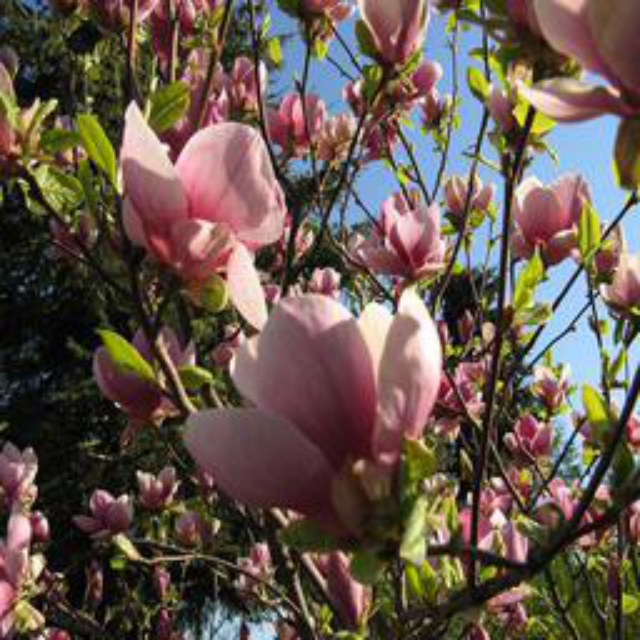magnolia: (184, 287, 447, 559), (185, 284, 446, 551), (114, 99, 296, 333), (499, 1, 639, 193), (86, 325, 203, 435), (351, 197, 445, 302), (509, 175, 593, 273), (355, 2, 435, 73), (1, 511, 51, 623), (260, 89, 324, 155), (71, 487, 135, 552), (593, 241, 639, 324), (1, 439, 51, 511), (438, 173, 496, 232), (499, 411, 556, 465), (133, 465, 185, 520), (530, 361, 577, 419)
